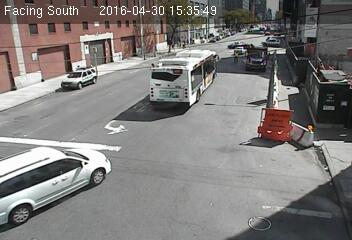neg: (174, 71, 197, 101), (150, 61, 171, 90), (77, 44, 95, 68), (127, 41, 137, 55)
pos: (230, 49, 243, 65)
